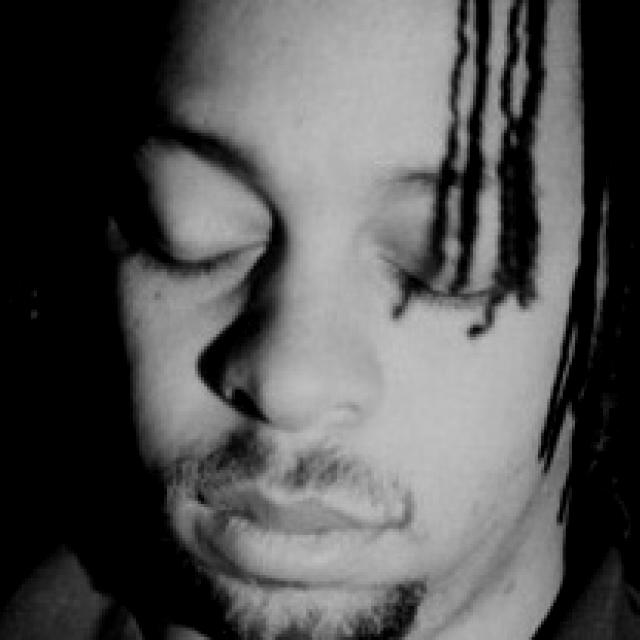real: (89, 31, 625, 563), (135, 154, 527, 328)
